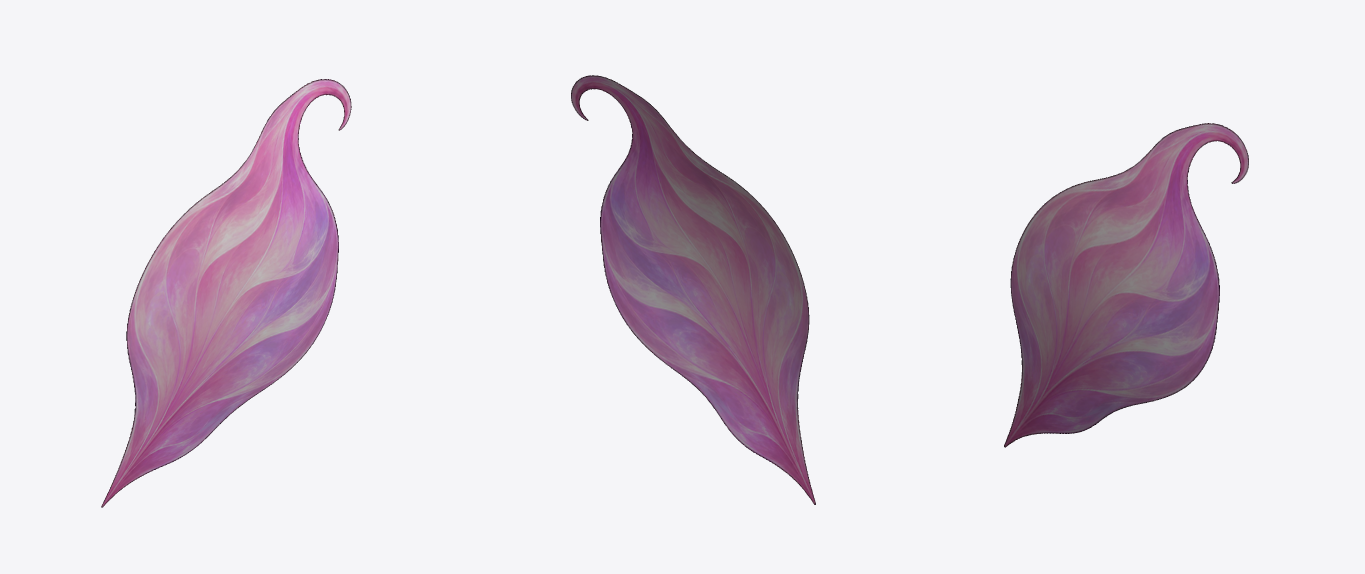
The model's file is petal_3.glb.
The picture shows the model from 3 angles, left to right: view 1: azimuth 30°, elevation 25°; view 2: azimuth 150°, elevation 25°; view 3: azimuth 330°, elevation 25°; orthographic projection.
Bounding box in the file's own units: 1 × 1 × 0.0875.
Materials: 1 (1 with a texture image).
